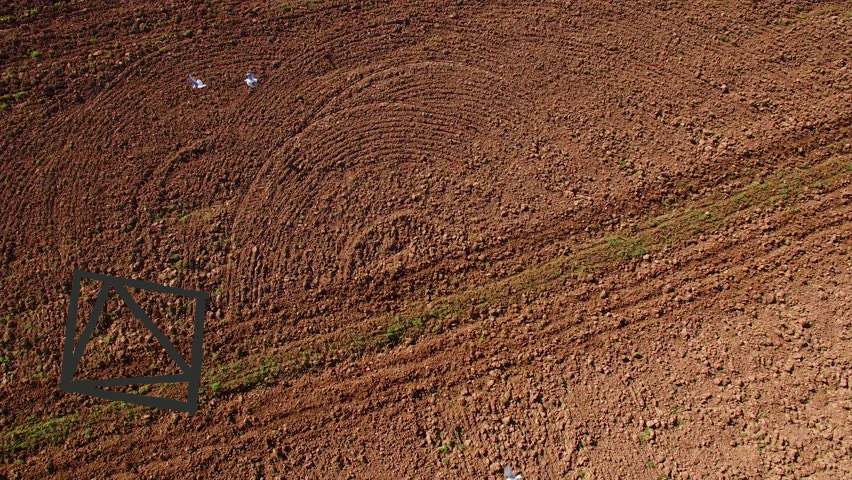marker: (54, 262, 209, 420)
